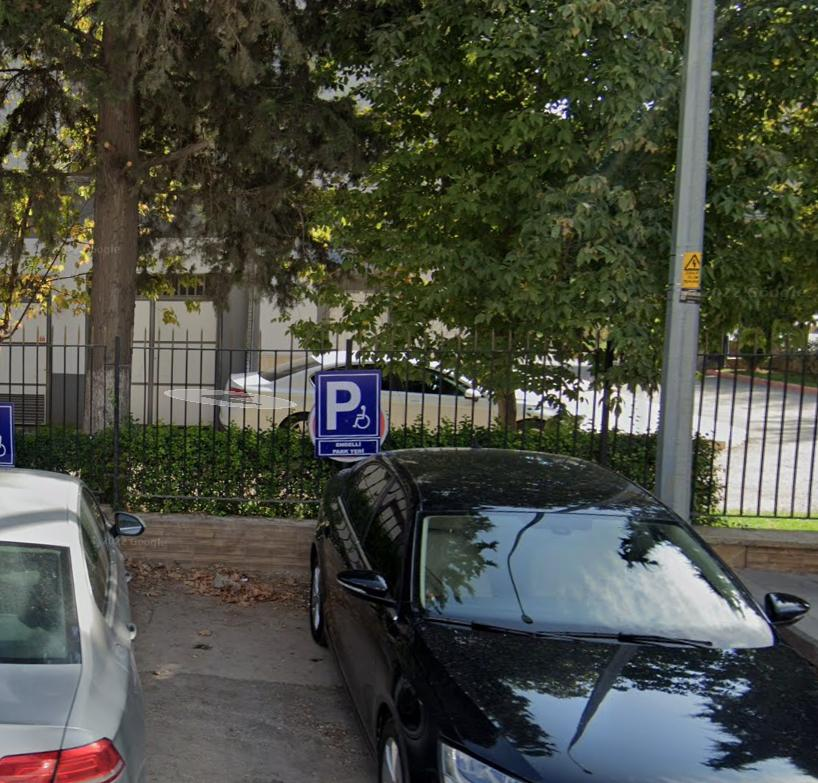park: (321, 376, 377, 436)
